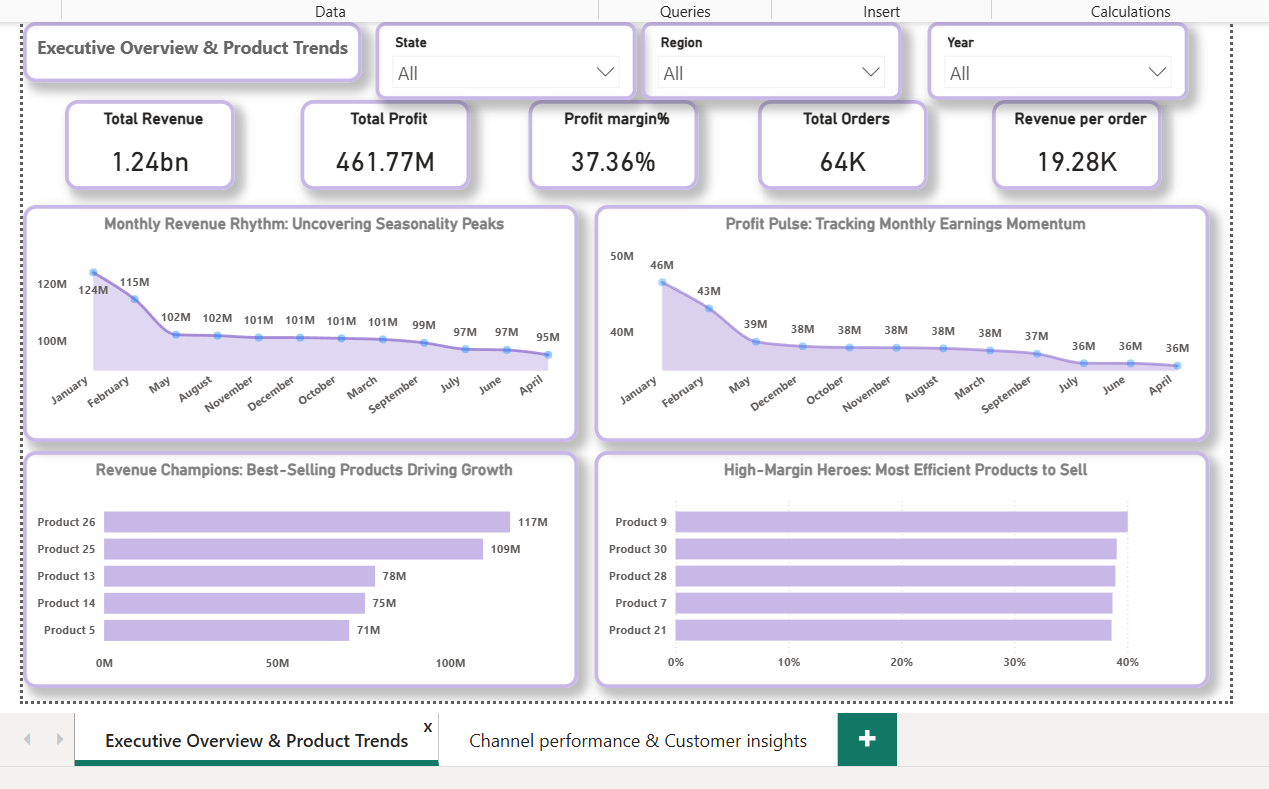

The page's visual inventory and layout, read from the dashboard file:
{"tool":"powerbi","page":{"name":"Executive Overview & Product Trends","canvas":[1280,720],"ordinal":0},"visuals":[{"type":"textbox","box":[0,0,359.1,64.3],"z":0},{"type":"card","title":"Total Revenue","fields":{"Values":["Measure_.total_revenue"]},"box":[44.5,82.7,179.7,95.4],"z":1},{"type":"card","title":"Total Profit","fields":{"Values":["Measure_.total_profit"]},"box":[294.3,82.7,179.7,95.4],"z":2},{"type":"card","title":"Profit margin%","fields":{"Values":["Measure_.Profit Margin %"]},"box":[536,82.7,179.7,95.4],"z":3},{"type":"card","title":"Total Orders","fields":{"Values":["Measure_.Total Orders"]},"box":[779.4,82.7,179.7,95.4],"z":4},{"type":"card","title":"Revenue per order","fields":{"Values":["Measure_.Revenue per order"]},"box":[1027.5,82.7,179.7,95.4],"z":5},{"type":"lineChart","title":"Monthly Revenue Rhythm: Uncovering Seasonality Peaks","fields":{"Y":["Measure_.total_revenue"],"Category":["Sales_data.order_month_name"]},"box":[0,194.1,588.5,251.3],"z":7},{"type":"lineChart","title":"Profit Pulse: Tracking Monthly Earnings Momentum","fields":{"Category":["Sales_data.order_month_name"],"Y":["Measure_.total_profit"]},"box":[606,194.1,652.2,251.3],"z":8},{"type":"barChart","title":"Revenue Champions: Best-Selling Products Driving Growth","fields":{"Y":["Measure_.total_revenue"],"Category":["Sales_data.product_name"]},"box":[0,454.9,588.5,251.3],"z":9},{"type":"barChart","title":"High-Margin Heroes: Most Efficient Products to Sell","fields":{"Category":["Sales_data.product_name"],"Y":["Measure_.Profit Margin %"]},"box":[606,455,652,251],"z":10},{"type":"slicer","fields":{"Values":["Sales_data.state"]},"box":[373.8,0,276.8,82.7],"z":11},{"type":"slicer","fields":{"Values":["Sales_data.us_region"]},"box":[655.3,0,276.8,82.7],"z":12},{"type":"slicer","fields":{"Values":["Sales_data.Year"]},"box":[959.1,0,276.8,82.7],"z":13}]}

Visuals, with their boxes in screenshot pixels (x1, y1, x2, y2):
textbox: (17,36,355,97)
"Total Revenue" card: (58,114,228,204)
"Total Profit" card: (294,114,464,204)
"Profit margin%" card: (522,114,691,204)
"Total Orders" card: (752,114,921,204)
"Revenue per order" card: (985,114,1155,204)
"Monthly Revenue Rhythm: Uncovering Seasonality Peaks" lineChart: (17,219,571,456)
"Profit Pulse: Tracking Monthly Earnings Momentum" lineChart: (588,219,1203,456)
"Revenue Champions: Best-Selling Products Driving Growth" barChart: (17,465,571,702)
"High-Margin Heroes: Most Efficient Products to Sell" barChart: (588,465,1203,702)
slicer - Sales_data.state: (369,36,630,114)
slicer - Sales_data.us_region: (634,36,896,114)
slicer - Sales_data.Year: (921,36,1182,114)
